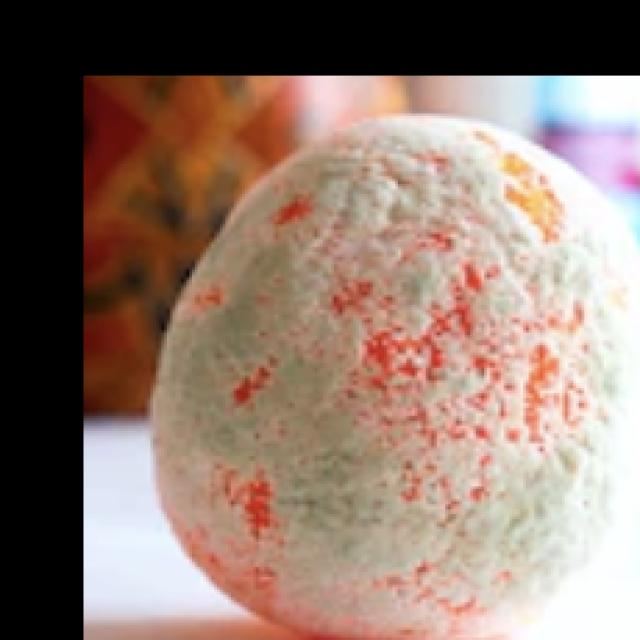sangat_busuk: (146, 114, 637, 637)
